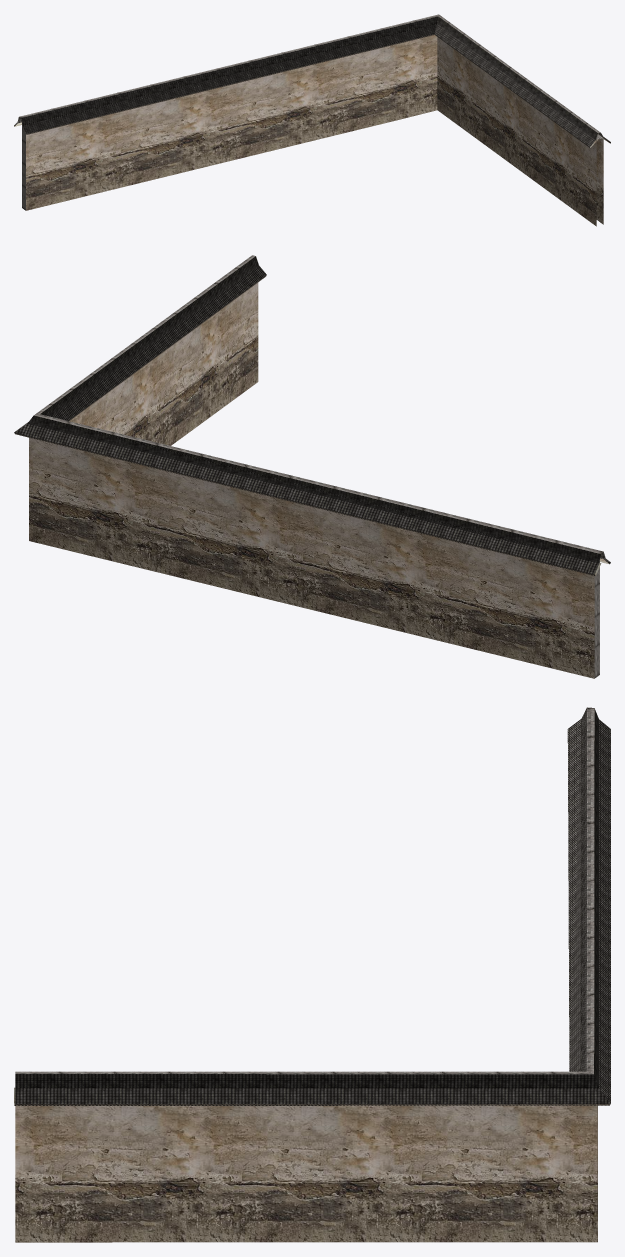
The model's file is ian1631.obj.
3 renders of one model, top to bottom at view 1: azimuth 30°, elevation 25°; view 2: azimuth 150°, elevation 25°; view 3: azimuth 270°, elevation 25°, orthographic. The views are drawn at different scales.
Parts seen in each view (by area): view 1: ian1631; view 2: ian1631; view 3: ian1631.
Part boxes in pixels (x1=…): ian1631: x1=14, y1=14, x2=610, y2=226; ian1631: x1=14, y1=255, x2=610, y2=678; ian1631: x1=14, y1=707, x2=610, y2=1242.
Size of the model in its own units: 339 by 69.98 by 228.
